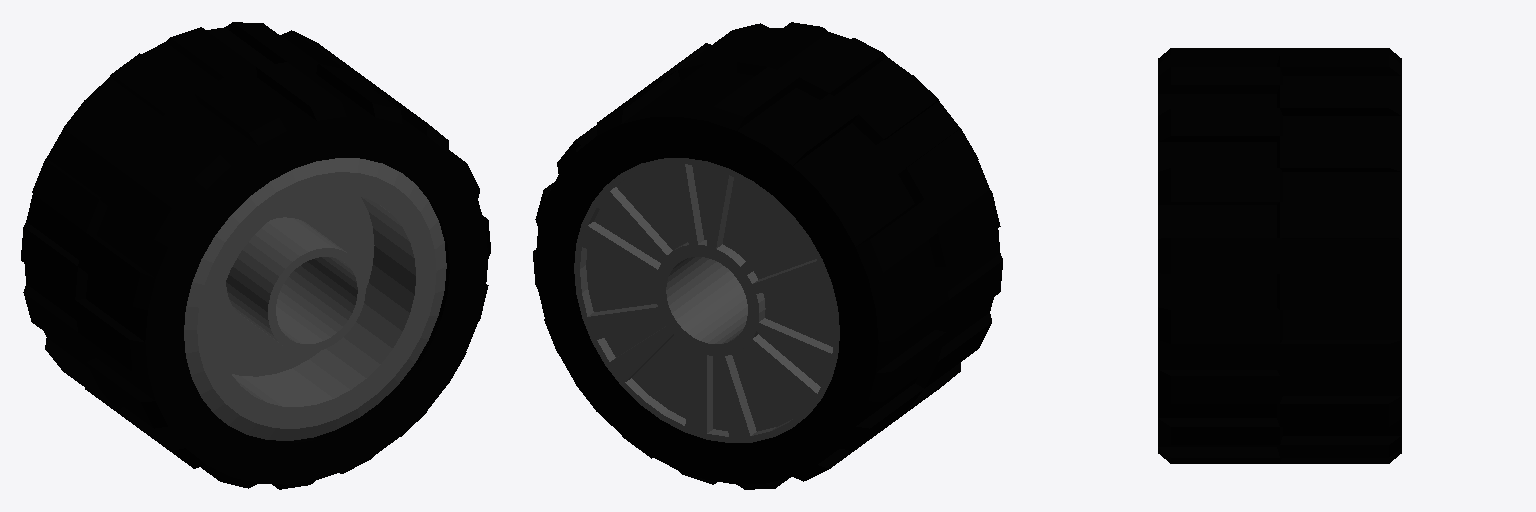
Rendered from wheelGreenCar.obj.
3 views of the same model, side by side, from view 1: azimuth 30°, elevation 25°; view 2: azimuth 150°, elevation 25°; view 3: azimuth 270°, elevation 25° (orthographic).
Parts seen in each view (by area): view 1: Circle.293; view 2: Circle.293; view 3: Circle.293.
Part boxes in pixels (bbox=[...]): Circle.293: bbox=[21, 22, 490, 489]; Circle.293: bbox=[533, 22, 1002, 489]; Circle.293: bbox=[1158, 48, 1401, 463].
Size of the model in its own units: 12 by 12 by 7.